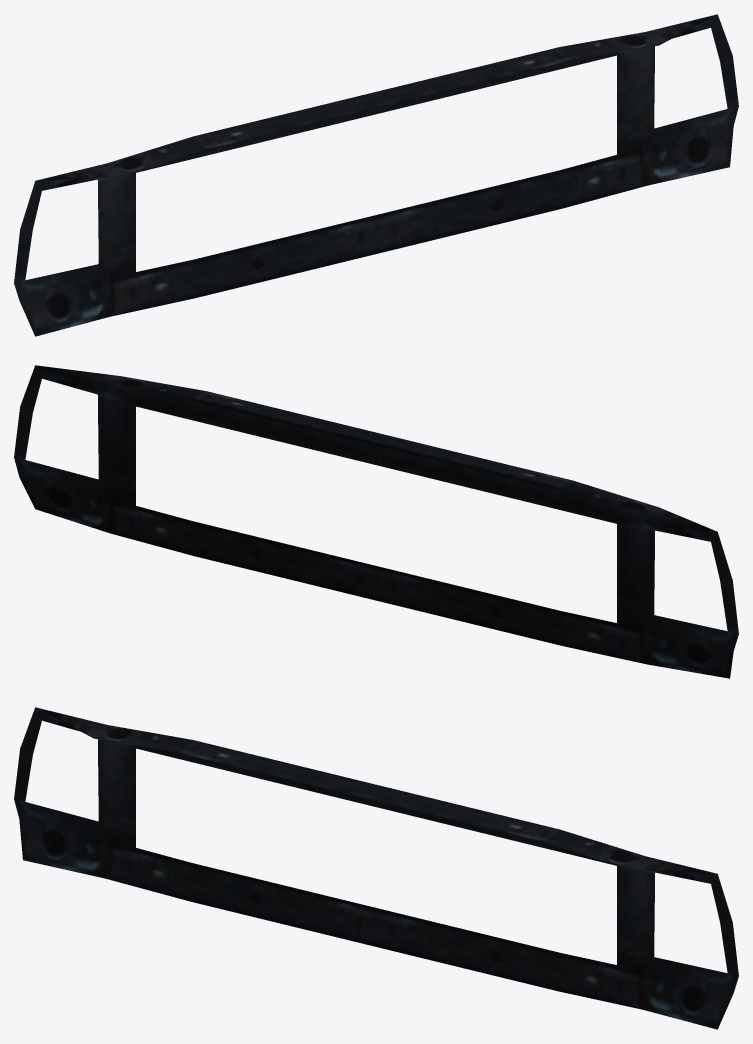
File: part_13_lightframe.fbx
3 renders of one model, top to bottom at view 1: azimuth 30°, elevation 25°; view 2: azimuth 150°, elevation 25°; view 3: azimuth 330°, elevation 25°, orthographic.
Parts seen in each view (by area): view 1: part_13_lightframe.001; view 2: part_13_lightframe.001; view 3: part_13_lightframe.001.
Boxes of the visible parts, x1=… form: part_13_lightframe.001: x1=14, y1=14, x2=738, y2=336; part_13_lightframe.001: x1=14, y1=365, x2=738, y2=678; part_13_lightframe.001: x1=14, y1=707, x2=738, y2=1029.
Size of the model in its own units: 125 by 26.44 by 4.14.
